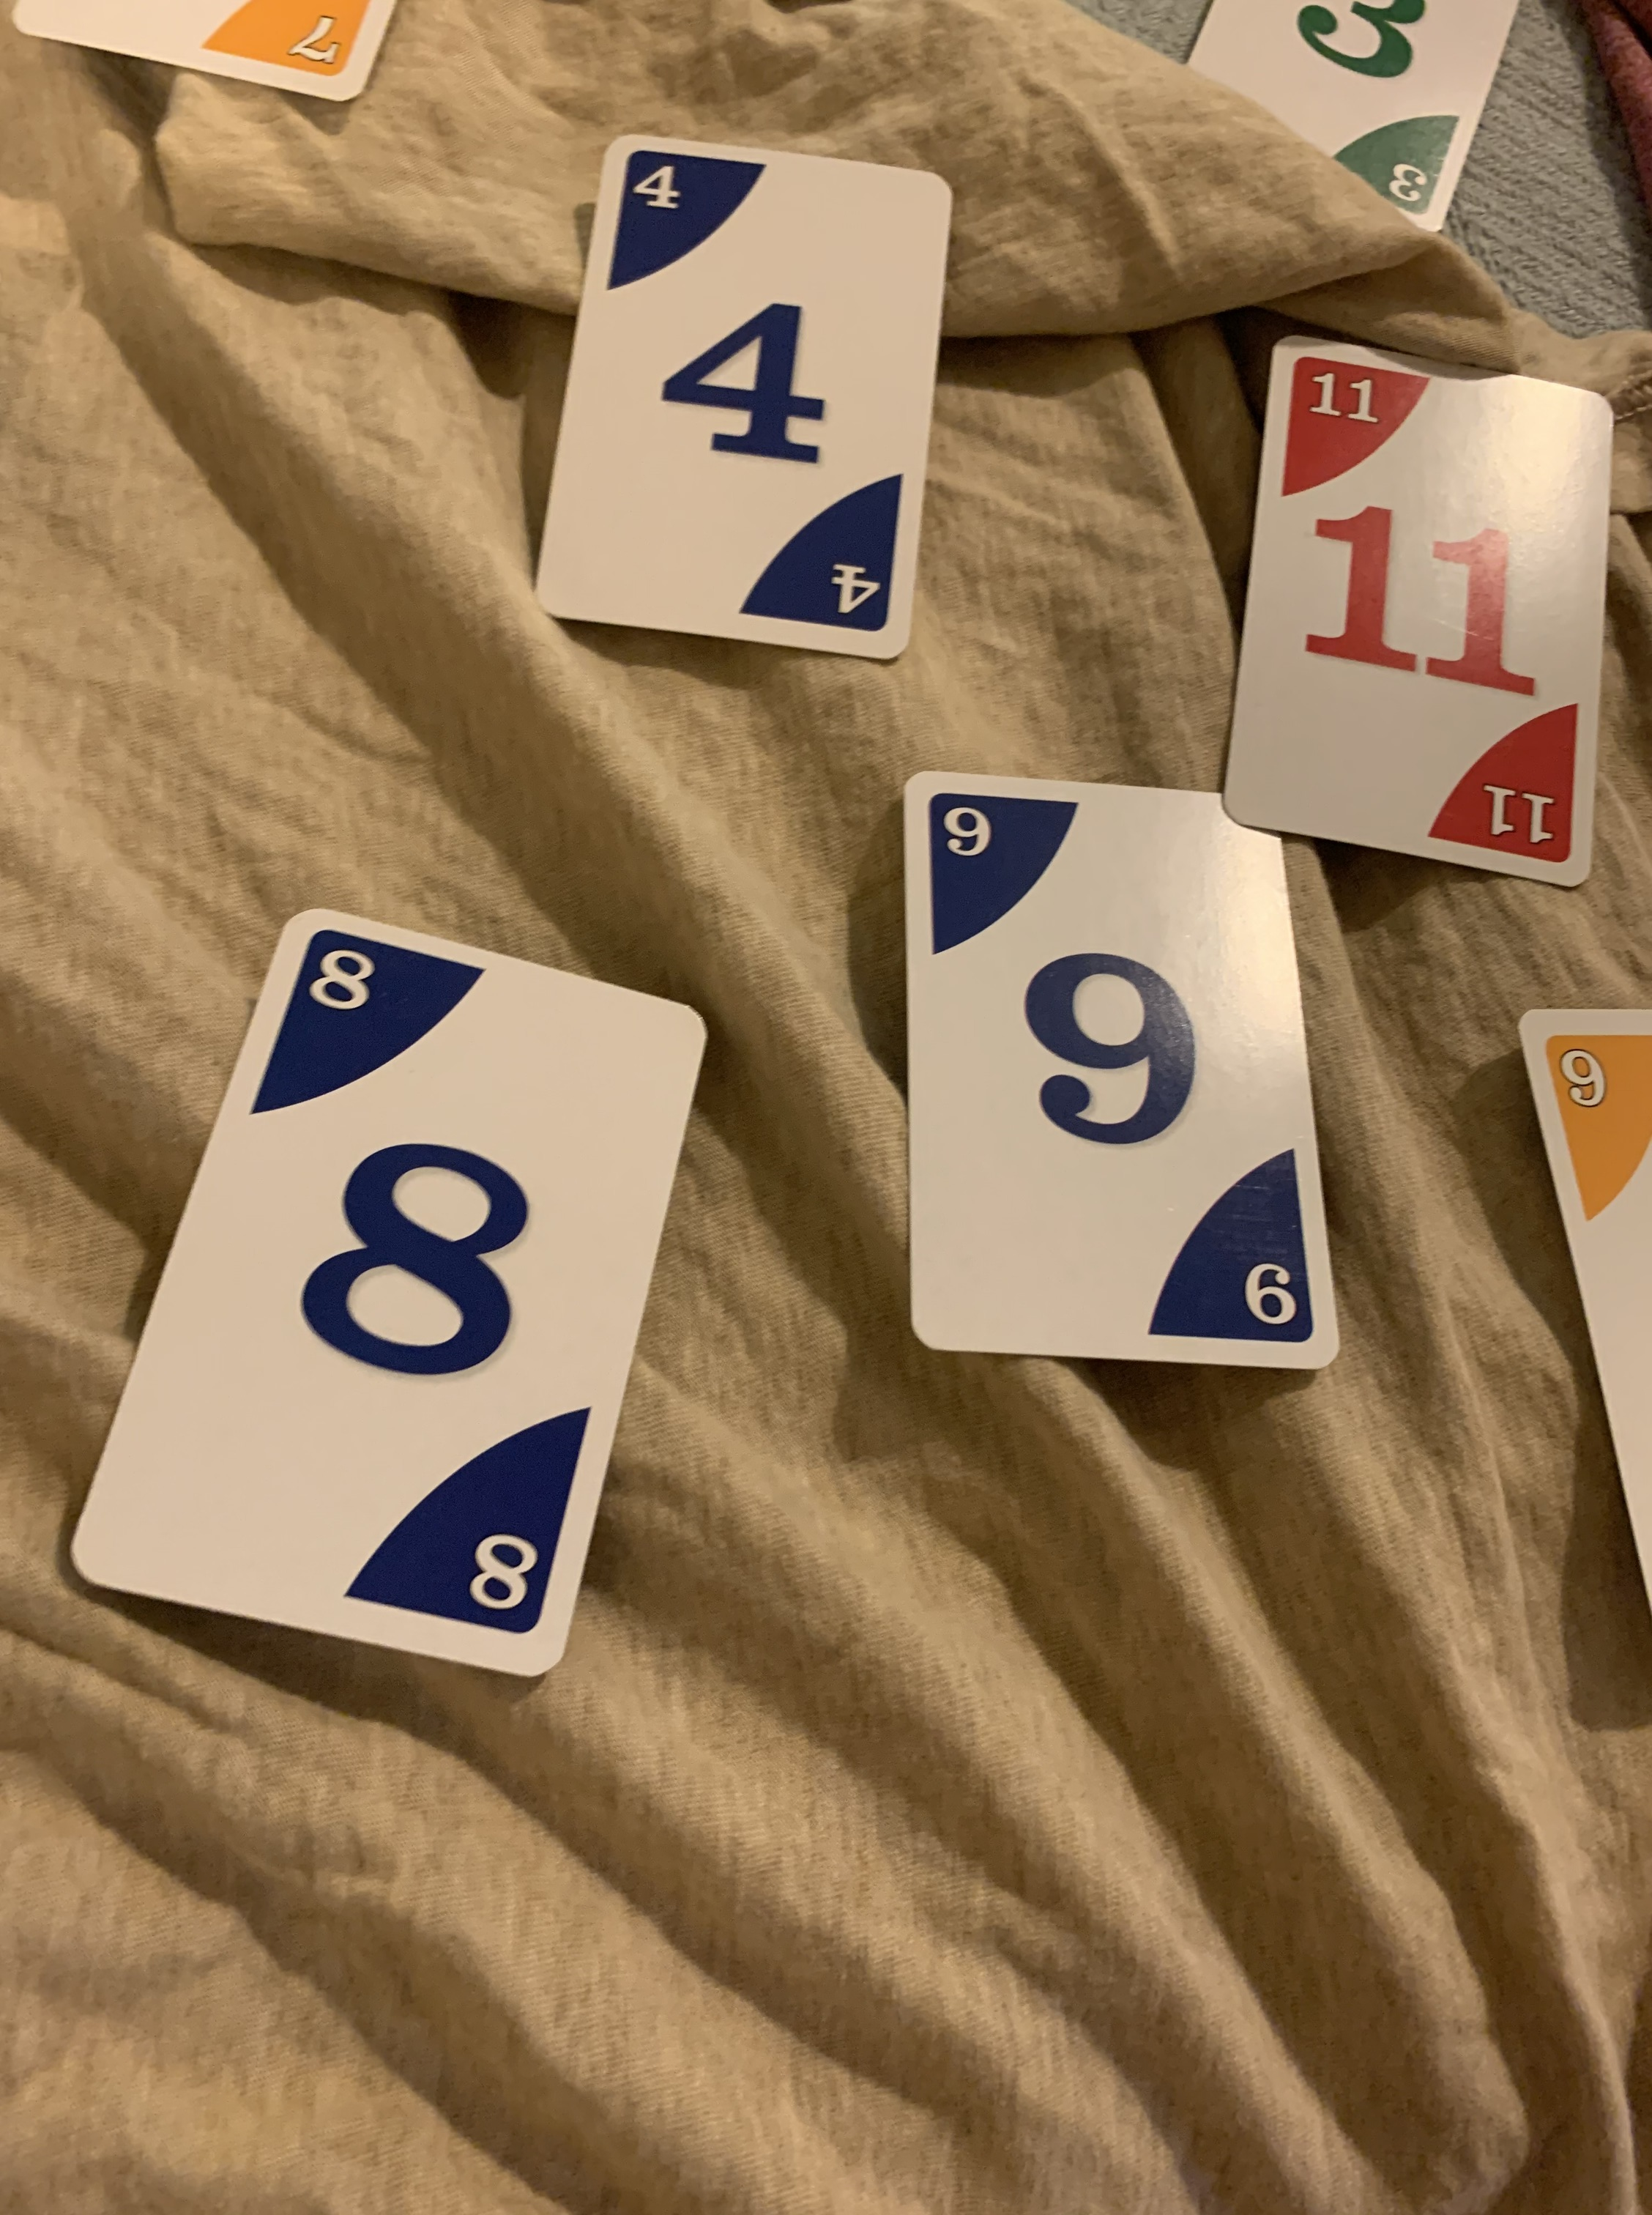eight: (62, 906, 720, 1689)
eleven: (1196, 321, 1621, 899)
four: (489, 120, 967, 684)
nine: (880, 750, 1348, 1387)
